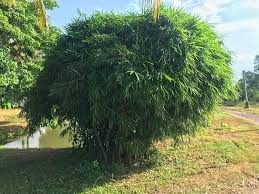bamboo: (32, 23, 227, 125), (77, 123, 154, 171)
